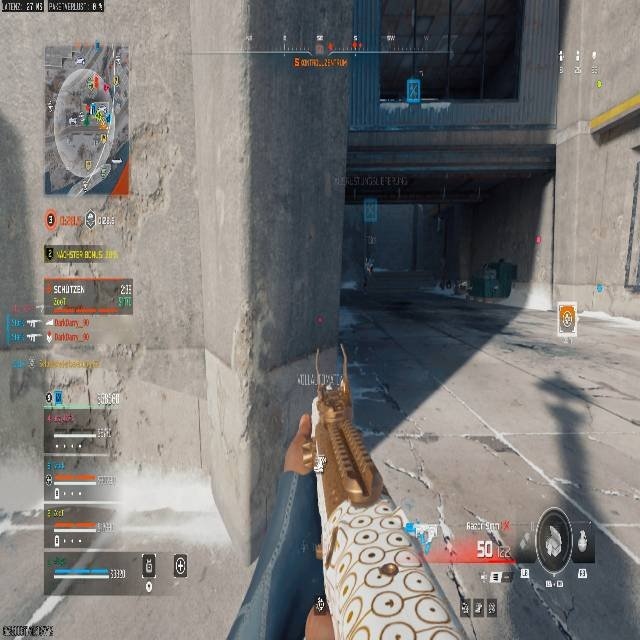player: (360, 255, 375, 291)
